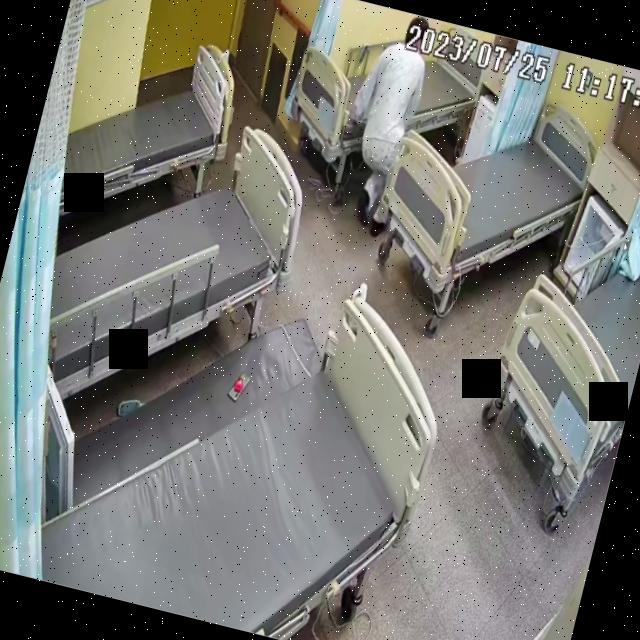bed: (27, 245, 454, 640), (20, 92, 318, 433), (471, 191, 640, 508), (367, 76, 600, 300), (48, 16, 249, 245), (284, 8, 488, 190)
danger: (327, 6, 439, 236)
patient: (326, 5, 438, 236)
